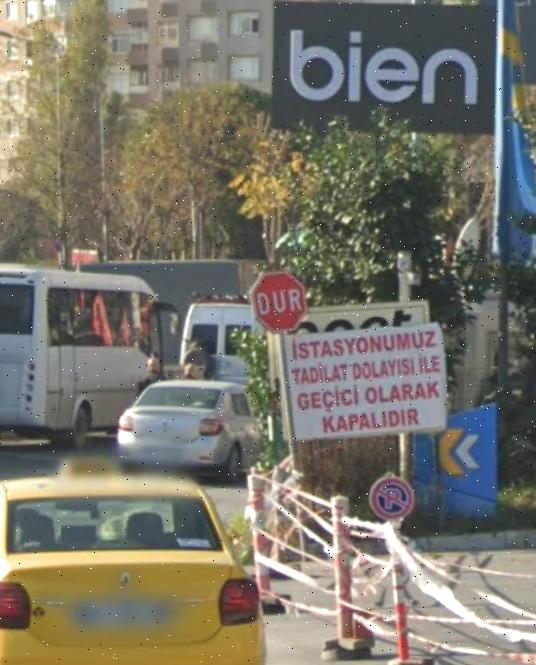stop: (251, 273, 313, 333)
